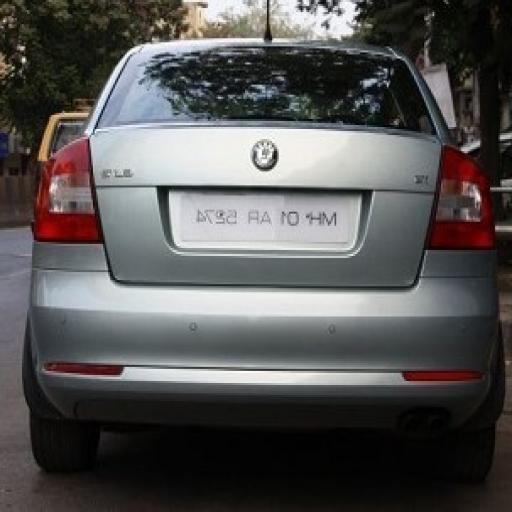License: (178, 191, 352, 242)
